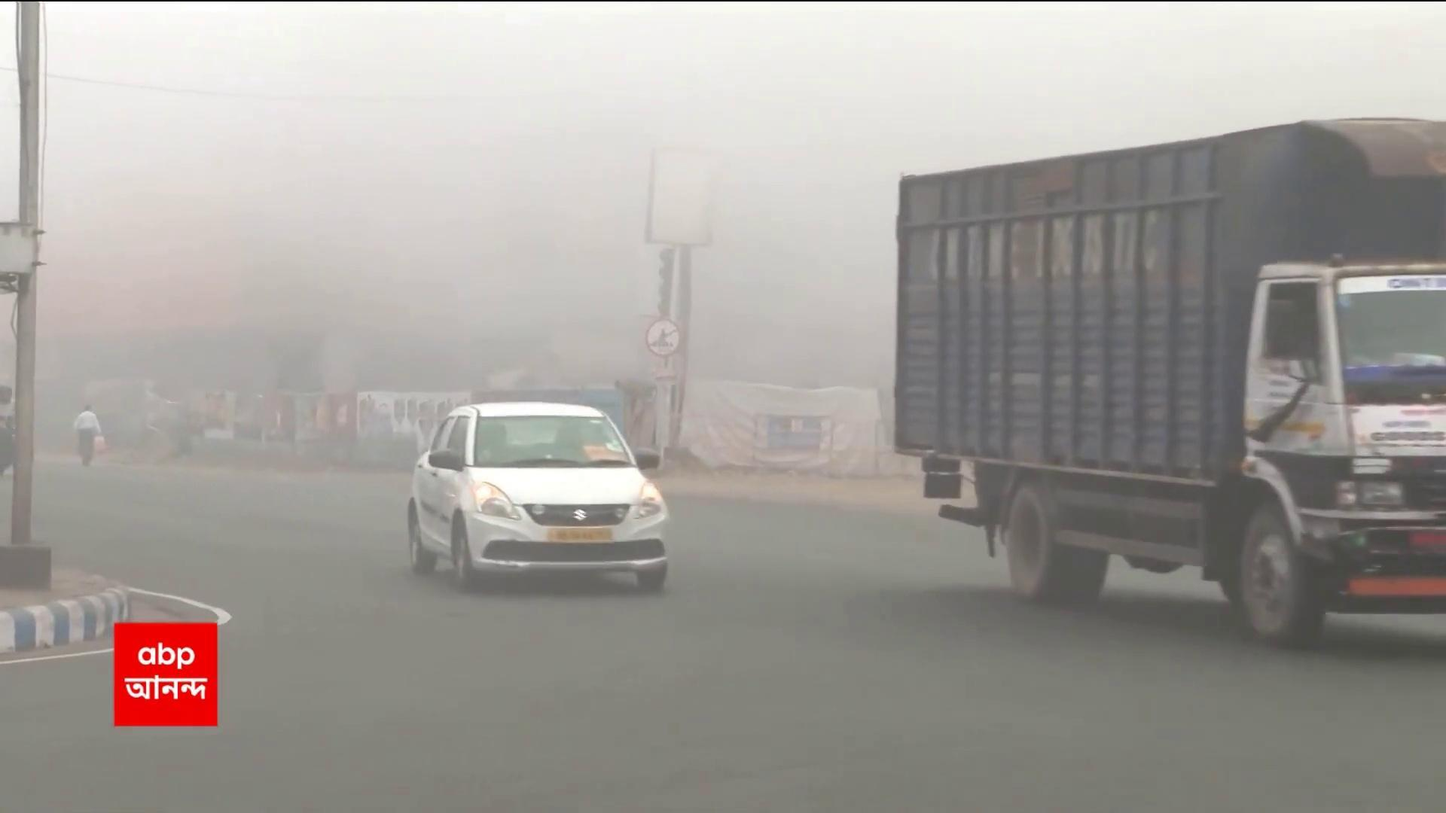Car: (401, 399, 670, 605)
Truck: (886, 115, 1446, 649)
